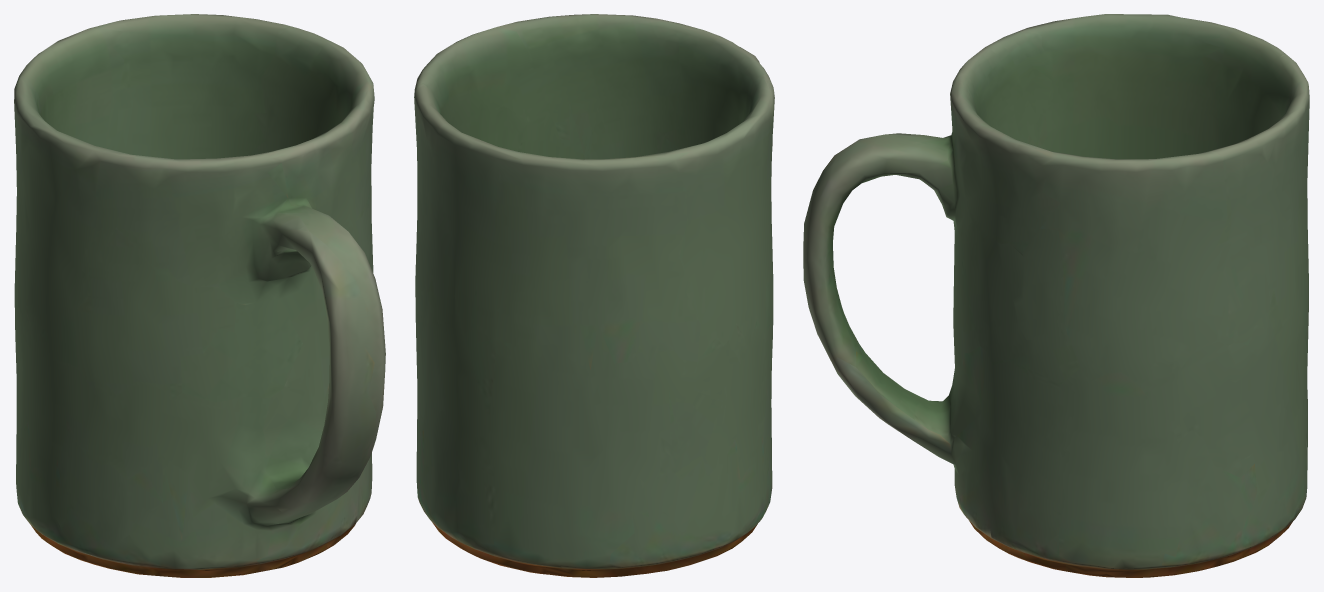
The model's file is mug.glb.
3 views of the same model, side by side, from view 1: azimuth 30°, elevation 25°; view 2: azimuth 150°, elevation 25°; view 3: azimuth 270°, elevation 25° (orthographic).
Parts seen in each view (by area): view 1: tripo_node_00d59f9d-a7e5-40ea-8e91-11657e07ff3f; view 2: tripo_node_00d59f9d-a7e5-40ea-8e91-11657e07ff3f; view 3: tripo_node_00d59f9d-a7e5-40ea-8e91-11657e07ff3f.
Boxes of the visible parts, left/top/right/bottom form: tripo_node_00d59f9d-a7e5-40ea-8e91-11657e07ff3f: left=14, top=14, right=385, bottom=577; tripo_node_00d59f9d-a7e5-40ea-8e91-11657e07ff3f: left=414, top=14, right=774, bottom=577; tripo_node_00d59f9d-a7e5-40ea-8e91-11657e07ff3f: left=803, top=14, right=1309, bottom=577.
Size of the model in its own units: 0.7155 by 0.9171 by 1.
Materials: 1 (1 with a texture image).
